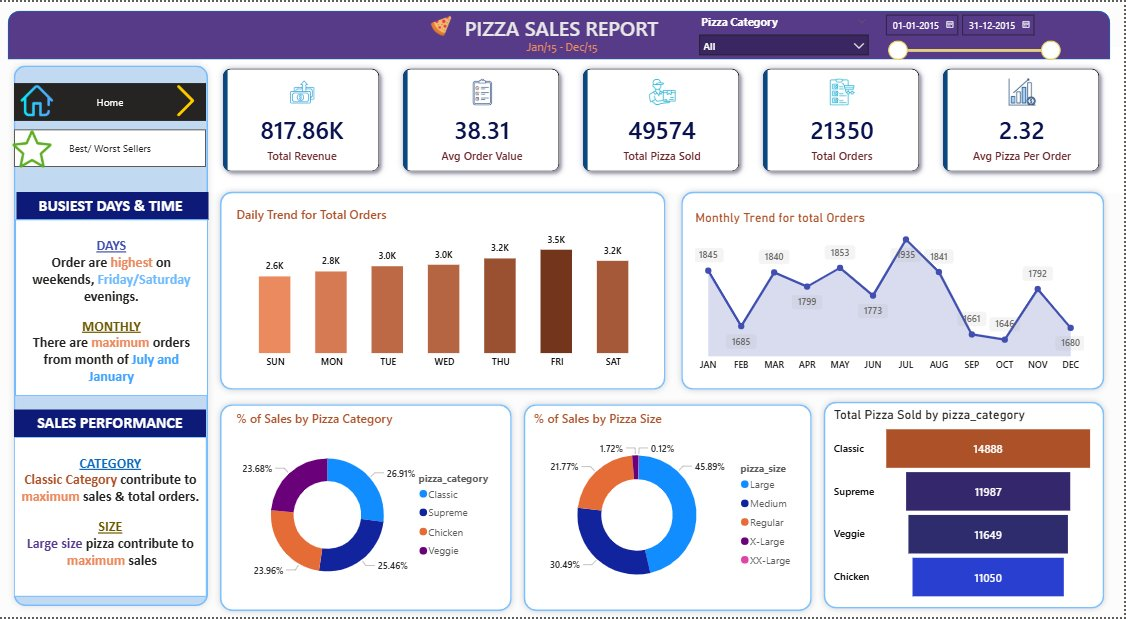

What the dashboard file says about the page in this screenshot:
{"tool":"powerbi","page":{"name":"Home","canvas":[1500,820],"ordinal":0},"visuals":[{"type":"cardVisual","fields":{"Data":["pizza_sales.Total Revenue","pizza_sales.Avg Order Value","pizza_sales.Total Pizza Sold","pizza_sales.Total Orders","pizza_sales.Avg Pizza Per Order"]},"box":[270,60,1230,195],"z":0},{"type":"shape","box":[11.7,11.7,1470,65],"z":1000},{"type":"textbox","box":[603.3,11.7,293.3,48.3],"z":2000},{"type":"textbox","box":[692.5,45,115,31.2],"z":3000},{"type":"image","box":[568.8,17.5,42.5,27.5],"z":4000},{"type":"shape","box":[286.7,245,610,280],"z":5000},{"type":"columnChart","title":"Daily Trend for Total Orders","fields":{"Category":["pizza_sales.Order Day"],"Y":["pizza_sales.Total Orders"]},"box":[311.7,271.7,565,226.7],"z":6000},{"type":"shape","box":[901.7,245,580,280],"z":7000},{"type":"areaChart","title":" Monthly Trend for total Orders","fields":{"Category":["pizza_sales.Order Month"],"Y":["pizza_sales.Total Orders"]},"box":[923.3,276.7,528.3,225],"z":8000},{"type":"shape","box":[286.7,528.3,405,291.7],"z":9000},{"type":"shape","box":[691.7,528.3,400,291.7],"z":10000},{"type":"shape","box":[1091.7,525,390,291.7],"z":11000},{"type":"donutChart","title":"% of Sales by Pizza Category","fields":{"Category":["pizza_sales.pizza_category"],"Y":["pizza_sales.Total Revenue"]},"box":[311.7,543.3,361.7,260],"z":12000},{"type":"donutChart","title":"% of Sales by Pizza Size","fields":{"Category":["pizza_sales.pizza_size"],"Y":["pizza_sales.Total Revenue"]},"box":[708.3,543.3,365,260],"z":13000},{"type":"funnel","fields":{"Category":["pizza_sales.pizza_category"],"Y":["pizza_sales.Total Pizza Sold"]},"box":[1108.3,540,356.7,263.3],"z":14000},{"type":"shape","box":[11.7,76.7,275,736.7],"z":15000},{"type":"textbox","box":[22.9,252.9,255.7,37.1],"z":16000},{"type":"textbox","box":[21.7,290,256.7,235],"z":17000},{"type":"textbox","box":[20,542.9,255.7,37.1],"z":18000},{"type":"textbox","box":[20,580,257.1,212.9],"z":19000},{"type":"slicer","fields":{"Values":["pizza_sales.pizza_category"]},"box":[922.9,11.4,245.7,65.7],"z":20000},{"type":"slicer","fields":{"Values":["pizza_sales.order_date"]},"box":[1170,6.7,253.3,81.7],"z":21000},{"type":"pageNavigator","box":[20,108.3,256.7,50],"z":22000},{"type":"pageNavigator","box":[20,170,256.7,50],"z":23000},{"type":"image","box":[223.3,110,51.7,43.3],"z":24000},{"type":"image","box":[11.7,170,65,51.7],"z":25000},{"type":"image","box":[23.3,110,55,43.3],"z":26000}]}

Visuals, with their boxes in screenshot pixels (x1, y1, x2, y2), scaled from the page's 1500x820 canvas onto the 1126x619 screenshot:
cardVisual - pizza_sales.Total Revenue x pizza_sales.Avg Order Value: [left=203, top=45, right=1125, bottom=192]
shape: [left=9, top=9, right=1112, bottom=58]
textbox: [left=453, top=9, right=673, bottom=45]
textbox: [left=520, top=34, right=606, bottom=58]
image: [left=427, top=13, right=459, bottom=34]
shape: [left=215, top=185, right=673, bottom=396]
"Daily Trend for Total Orders" columnChart: [left=234, top=205, right=658, bottom=376]
shape: [left=677, top=185, right=1112, bottom=396]
" Monthly Trend for total Orders" areaChart: [left=693, top=209, right=1090, bottom=379]
shape: [left=215, top=399, right=519, bottom=618]
shape: [left=519, top=399, right=820, bottom=618]
shape: [left=820, top=396, right=1112, bottom=617]
"% of Sales by Pizza Category" donutChart: [left=234, top=410, right=505, bottom=606]
"% of Sales by Pizza Size" donutChart: [left=532, top=410, right=806, bottom=606]
funnel - pizza_sales.pizza_category x pizza_sales.Total Pizza Sold: [left=832, top=408, right=1100, bottom=606]
shape: [left=9, top=58, right=215, bottom=614]
textbox: [left=17, top=191, right=209, bottom=219]
textbox: [left=16, top=219, right=209, bottom=396]
textbox: [left=15, top=410, right=207, bottom=438]
textbox: [left=15, top=438, right=208, bottom=599]
slicer - pizza_sales.pizza_category: [left=693, top=9, right=877, bottom=58]
slicer - pizza_sales.order_date: [left=878, top=5, right=1068, bottom=67]
pageNavigator: [left=15, top=82, right=208, bottom=119]
pageNavigator: [left=15, top=128, right=208, bottom=166]
image: [left=168, top=83, right=206, bottom=116]
image: [left=9, top=128, right=58, bottom=167]
image: [left=17, top=83, right=59, bottom=116]
